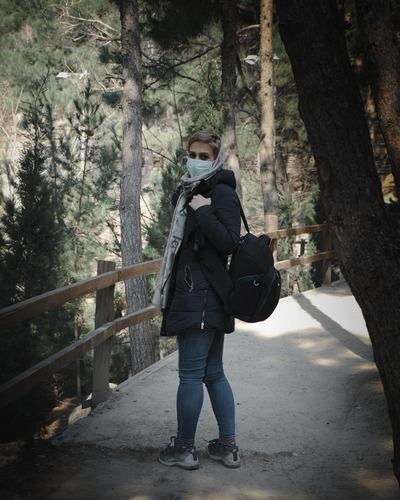with_mask: (186, 145, 215, 180)
